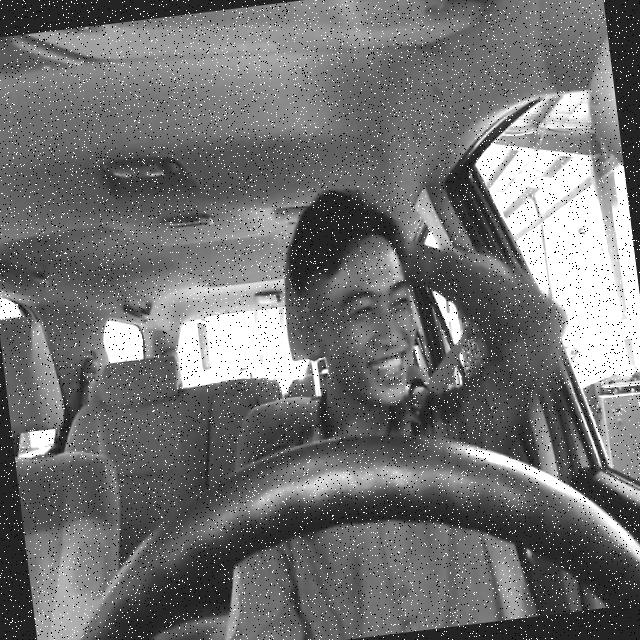focused: (285, 230, 427, 414)
